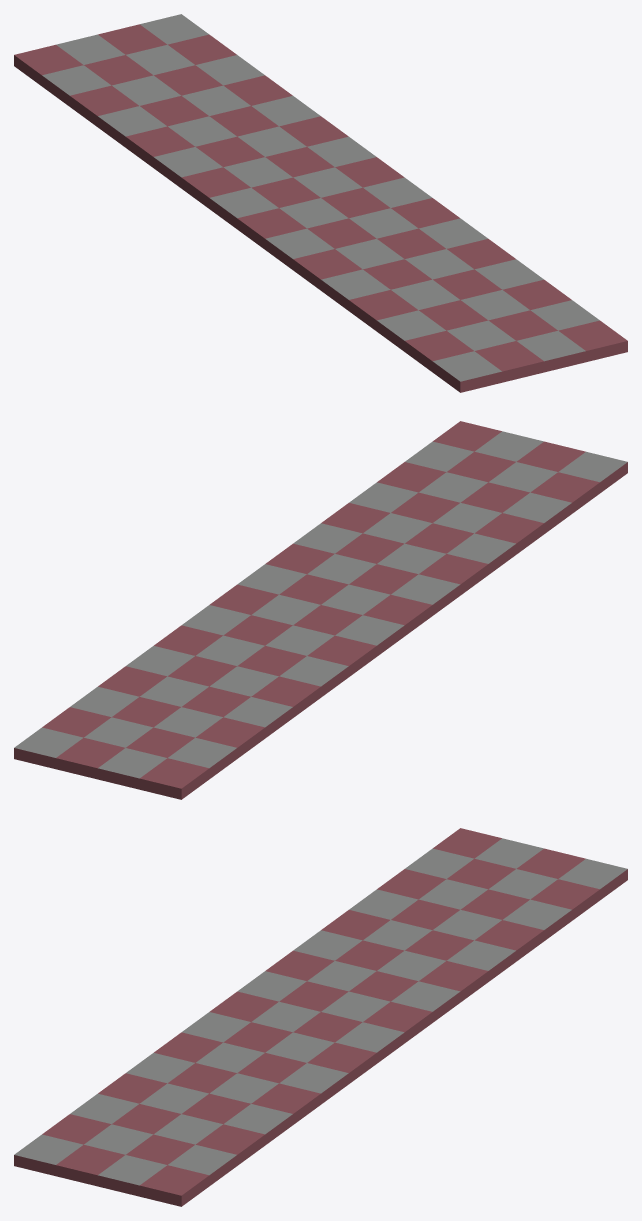
The model's file is 速食店.fbx_櫃後地板.fbx.
The picture shows the model from 3 angles, top to bottom: view 1: azimuth 30°, elevation 25°; view 2: azimuth 150°, elevation 25°; view 3: azimuth 330°, elevation 25°; orthographic projection.
Visible parts, largest first — view 1: FA; view 2: FA; view 3: FA.
Part boxes in pixels (<box>): FA: <box>14,14,627,392</box>; FA: <box>14,421,627,799</box>; FA: <box>14,828,627,1206</box>.
Size of the model in its own units: 470 by 30 by 2170.
